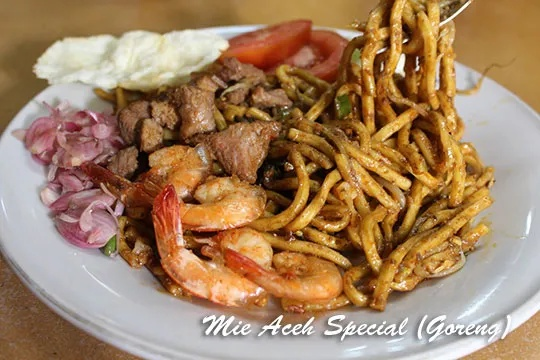mie_aceh: (24, 68, 499, 310)
